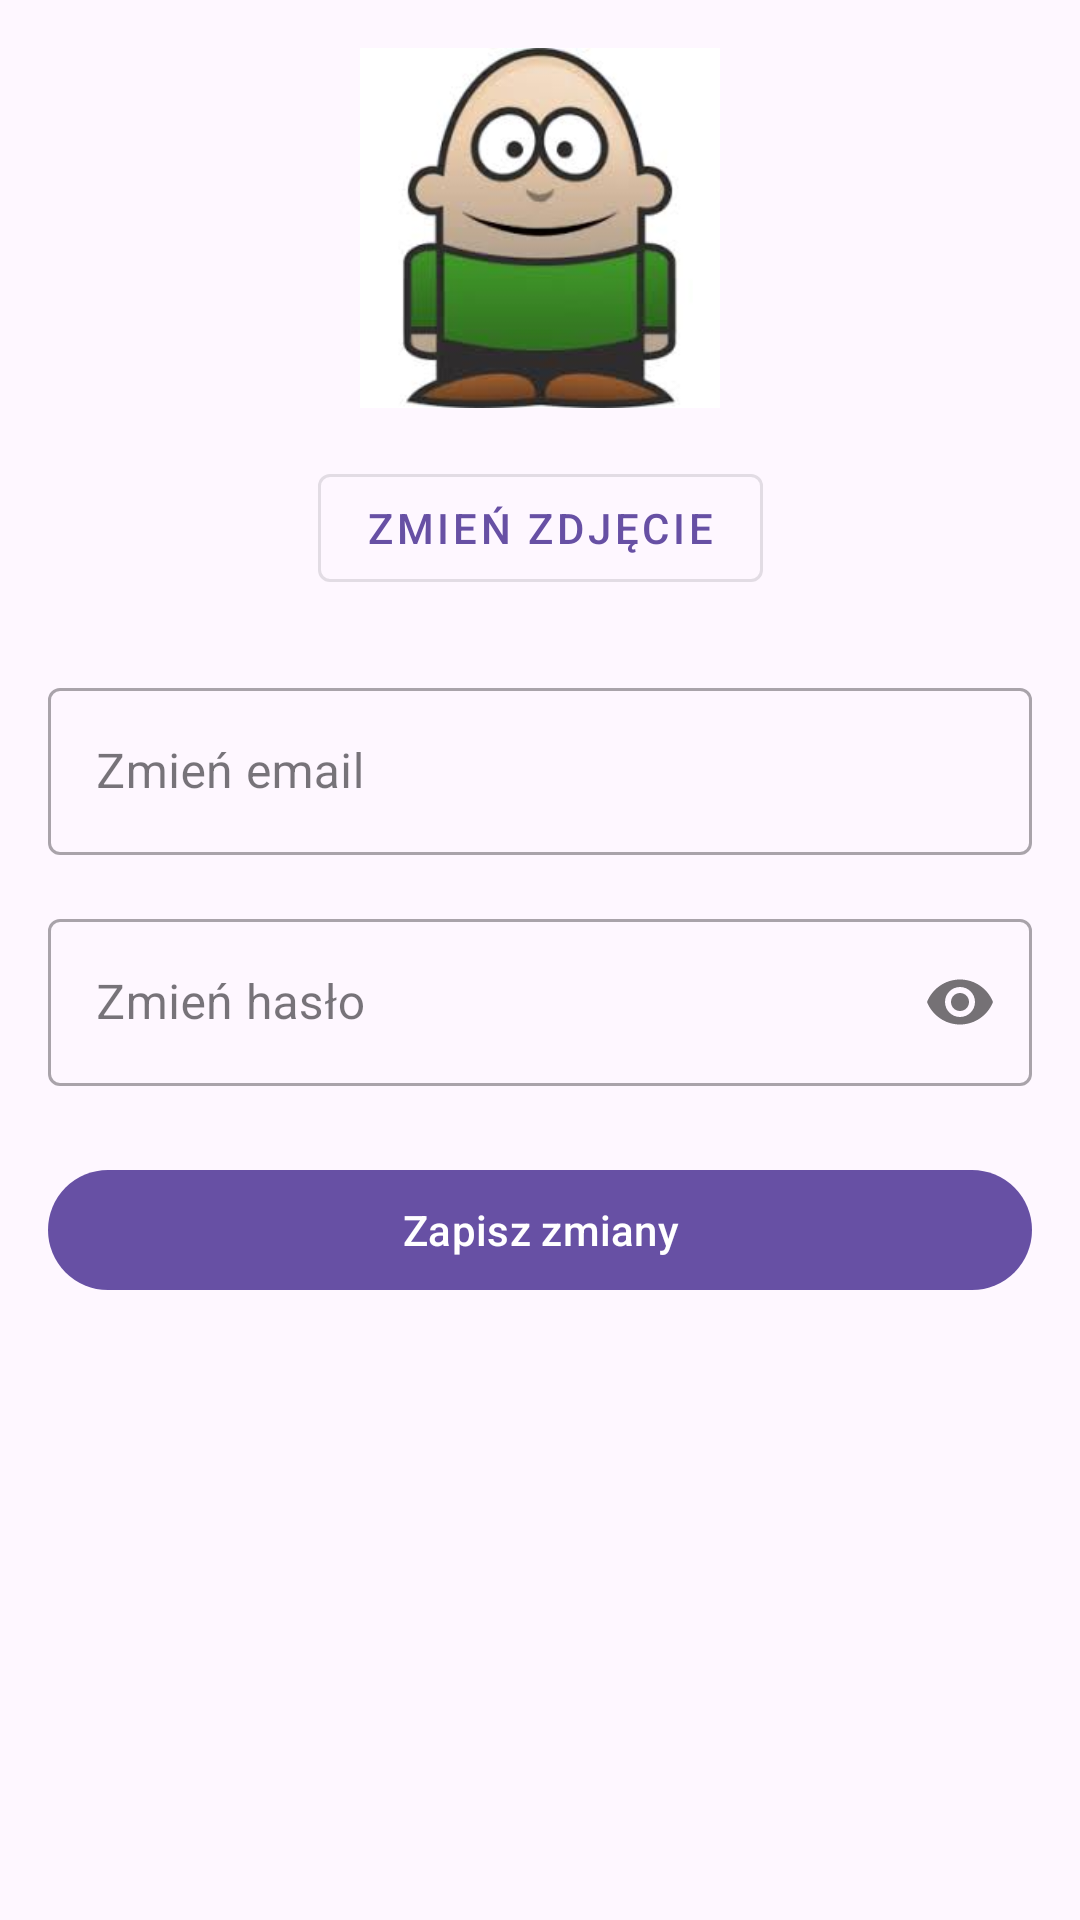

Icon click points for this 1080*1920 phone screenshot, format (x,y):
profile picture: (540,228)
